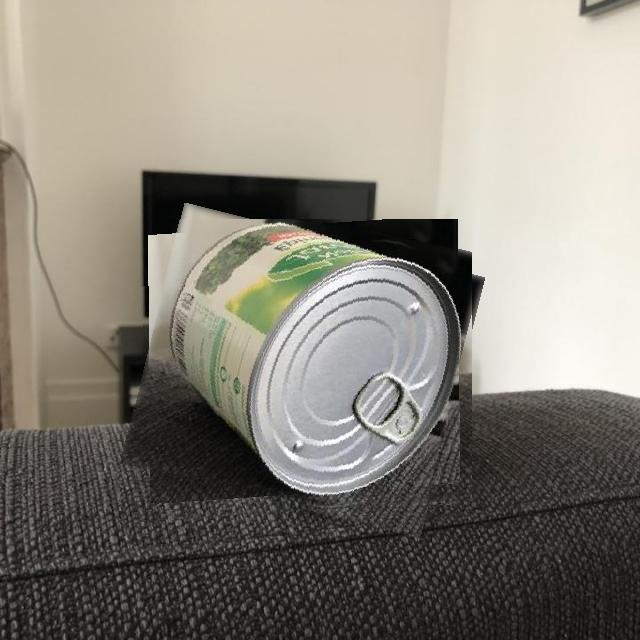recyclable: (134, 219, 472, 522)
